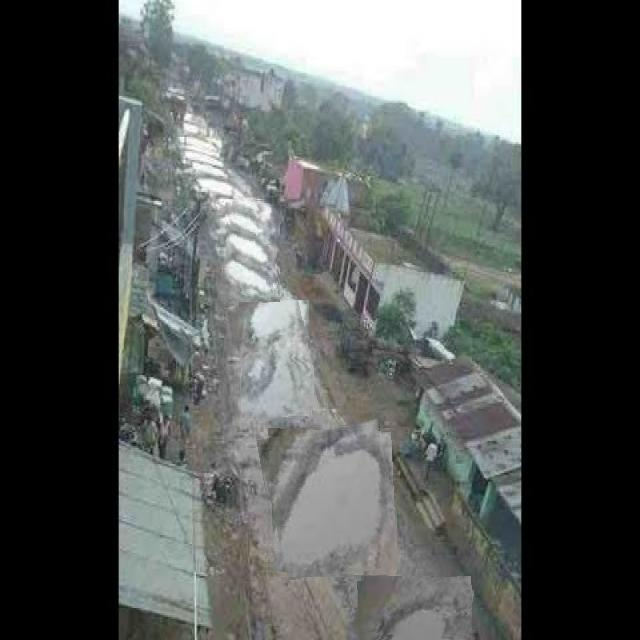Pothole: (262, 424, 397, 577), (234, 299, 314, 421), (355, 576, 472, 640), (221, 198, 280, 302)
